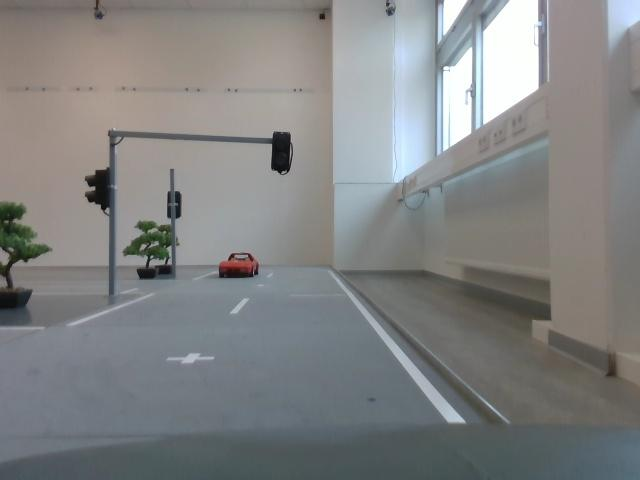car: (216, 252, 264, 282)
potted plant: (1, 201, 49, 310), (126, 220, 171, 285), (158, 221, 183, 273)
traffic light: (86, 166, 117, 216), (271, 128, 296, 177), (167, 190, 184, 218)
